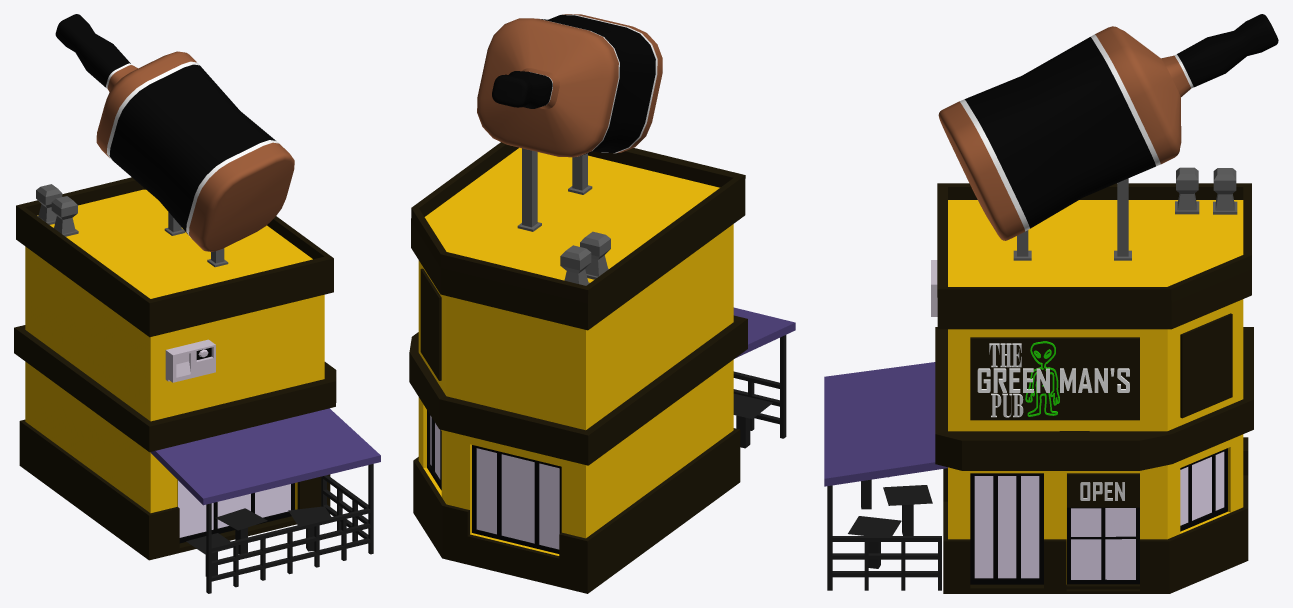
The model's file is open_bar.fbx.
3 renders of one model, left to right at view 1: azimuth 30°, elevation 25°; view 2: azimuth 150°, elevation 25°; view 3: azimuth 270°, elevation 25°, orthographic. The views are drawn at different scales.
Visible parts, largest first — view 1: open bar; view 2: open bar; view 3: open bar.
Boxes of the visible parts, x1,y1,x2,y2 form: open bar: (14, 14, 380, 593); open bar: (409, 14, 795, 593); open bar: (824, 14, 1278, 593).
Size of the model in its own units: 1501 by 3110 by 2528.
